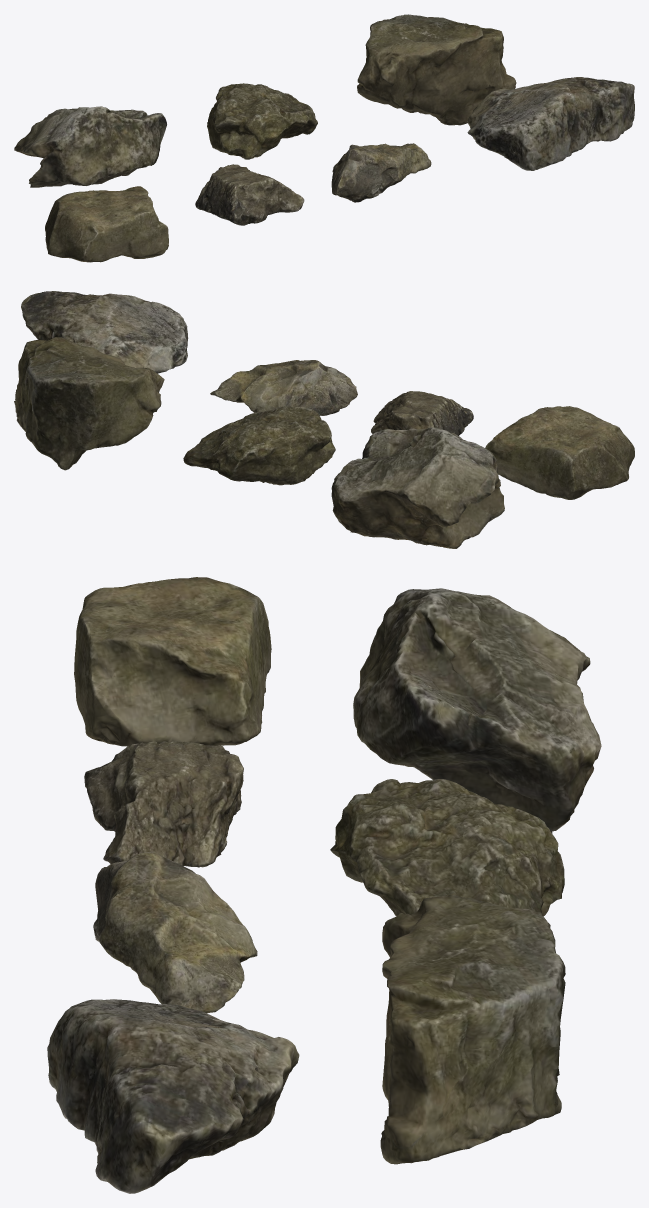
Rendered from rock_moss_set_02.glb.
3 views of the same model, one above another, from view 1: azimuth 30°, elevation 25°; view 2: azimuth 150°, elevation 25°; view 3: azimuth 270°, elevation 25° (orthographic). The views are drawn at different scales.
Parts seen in each view (by area): view 1: rock_moss_set_02_rock13, rock_moss_set_02_rock10, rock_moss_set_02_rock11, rock_moss_set_02_rock07, rock_moss_set_02_rock12, rock_moss_set_02_rock08, rock_moss_set_02_rock09; view 2: rock_moss_set_02_rock11, rock_moss_set_02_rock13, rock_moss_set_02_rock07, rock_moss_set_02_rock10, rock_moss_set_02_rock12, rock_moss_set_02_rock09, rock_moss_set_02_rock08; view 3: rock_moss_set_02_rock13, rock_moss_set_02_rock11, rock_moss_set_02_rock10, rock_moss_set_02_rock07, rock_moss_set_02_rock12, rock_moss_set_02_rock09, rock_moss_set_02_rock08.
Boxes of the visible parts, x1=… form: rock_moss_set_02_rock13: x1=357, y1=14, x2=516, y2=125; rock_moss_set_02_rock10: x1=467, y1=77, x2=634, y2=170; rock_moss_set_02_rock11: x1=14, y1=106, x2=166, y2=187; rock_moss_set_02_rock07: x1=45, y1=186, x2=168, y2=262; rock_moss_set_02_rock12: x1=207, y1=83, x2=317, y2=159; rock_moss_set_02_rock08: x1=195, y1=164, x2=304, y2=225; rock_moss_set_02_rock09: x1=331, y1=143, x2=431, y2=202; rock_moss_set_02_rock11: x1=331, y1=427, x2=504, y2=548; rock_moss_set_02_rock13: x1=14, y1=337, x2=164, y2=470; rock_moss_set_02_rock07: x1=485, y1=406, x2=634, y2=499; rock_moss_set_02_rock10: x1=21, y1=291, x2=188, y2=373; rock_moss_set_02_rock12: x1=183, y1=406, x2=335, y2=485; rock_moss_set_02_rock09: x1=210, y1=360, x2=357, y2=415; rock_moss_set_02_rock08: x1=371, y1=391, x2=473, y2=435; rock_moss_set_02_rock13: x1=380, y1=895, x2=565, y2=1164; rock_moss_set_02_rock11: x1=353, y1=588, x2=601, y2=833; rock_moss_set_02_rock10: x1=47, y1=999, x2=299, y2=1193; rock_moss_set_02_rock07: x1=74, y1=577, x2=271, y2=746; rock_moss_set_02_rock12: x1=330, y1=779, x2=564, y2=927; rock_moss_set_02_rock09: x1=93, y1=851, x2=257, y2=1013; rock_moss_set_02_rock08: x1=84, y1=741, x2=243, y2=867.
Size of the model in its own units: 8.28 by 1.37 by 3.41.
Materials: 1 (1 with a texture image).
